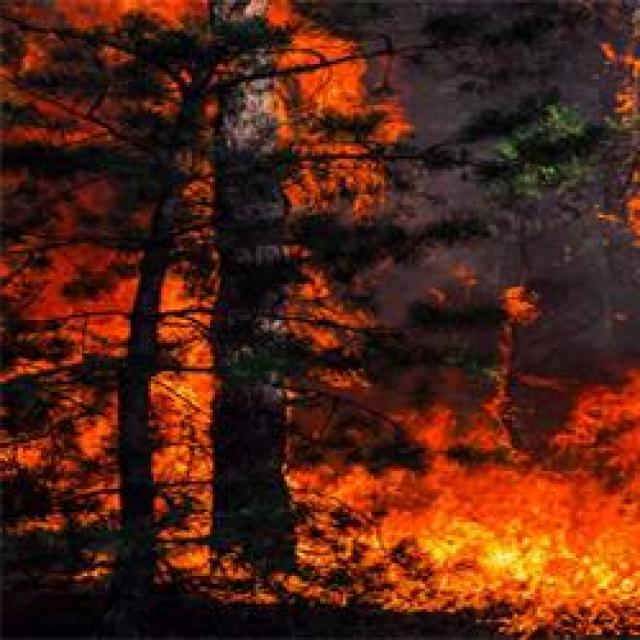fire: (568, 390, 640, 500), (496, 487, 576, 585), (426, 474, 508, 560), (562, 513, 640, 595), (152, 373, 212, 428), (432, 564, 498, 608), (326, 55, 361, 109), (337, 466, 383, 504), (156, 446, 186, 480), (88, 0, 200, 8), (425, 420, 448, 458), (162, 282, 181, 312)
smoke: (554, 257, 634, 357)
